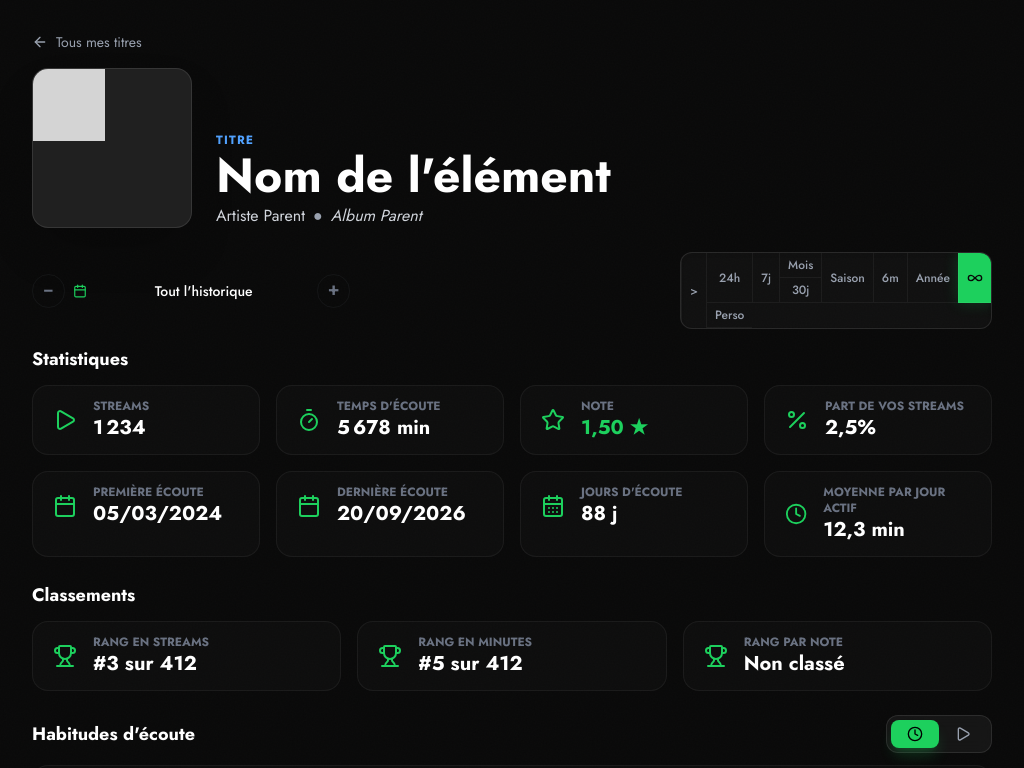
Test: ItemDetailPage – période › période personnalisée : champs de dates
Click the button "Perso" at (729, 316), box [706,303,752,328]
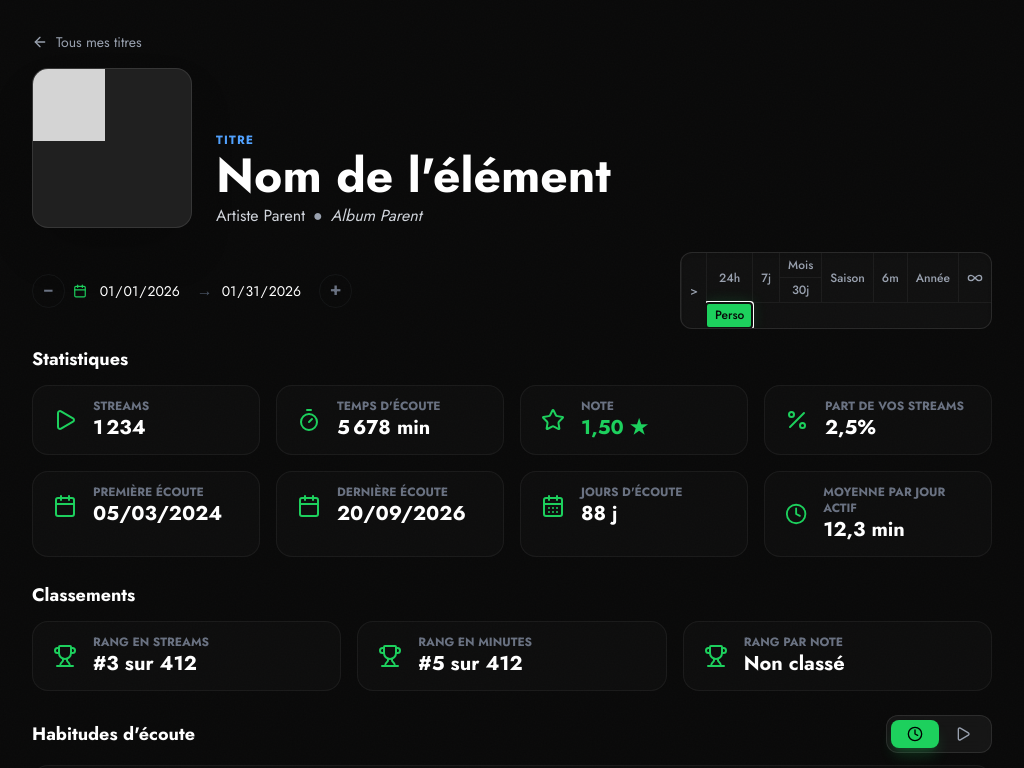
Check: the date field named "Date de début" is shown, box [99,278,189,302]
